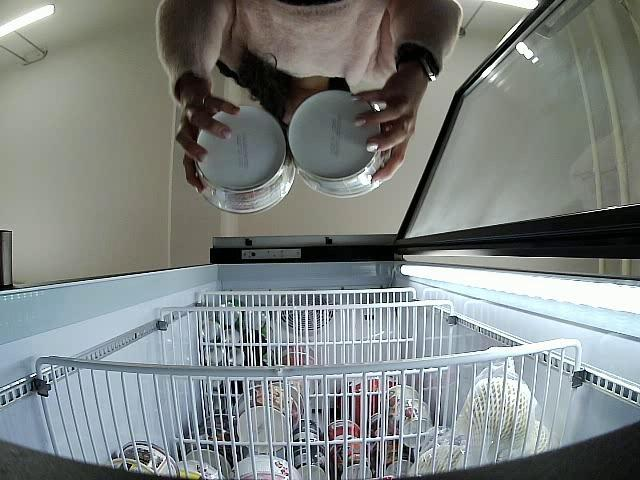03_chapagetti_L: (192, 105, 295, 216), (286, 88, 386, 199)
